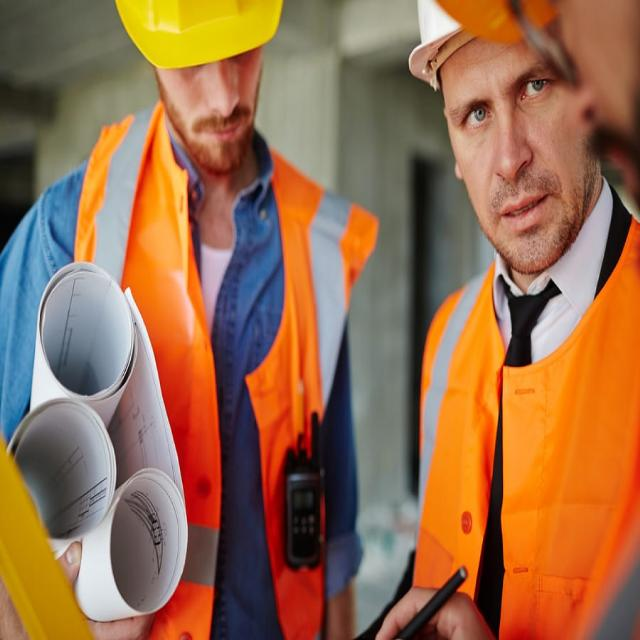Reflective-Jacket: (68, 110, 374, 623), (416, 221, 636, 637)
Safety-Helmet: (404, 0, 638, 89), (108, 0, 287, 75)
